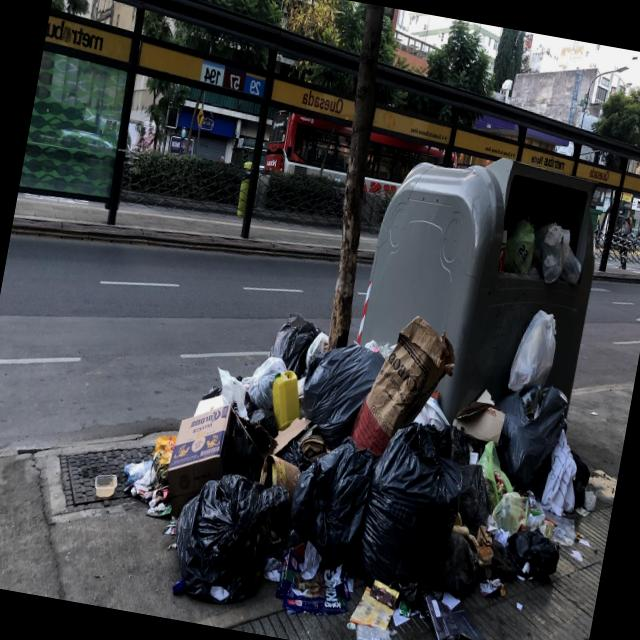garbage: (114, 140, 634, 640)
